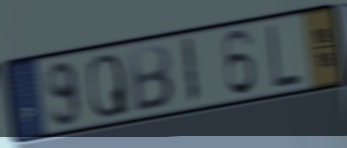6: (221, 27, 259, 98)
9: (45, 59, 83, 127)
B: (127, 42, 176, 115)
I: (179, 34, 202, 108)
L: (265, 22, 304, 90)
Q: (86, 52, 131, 120)
